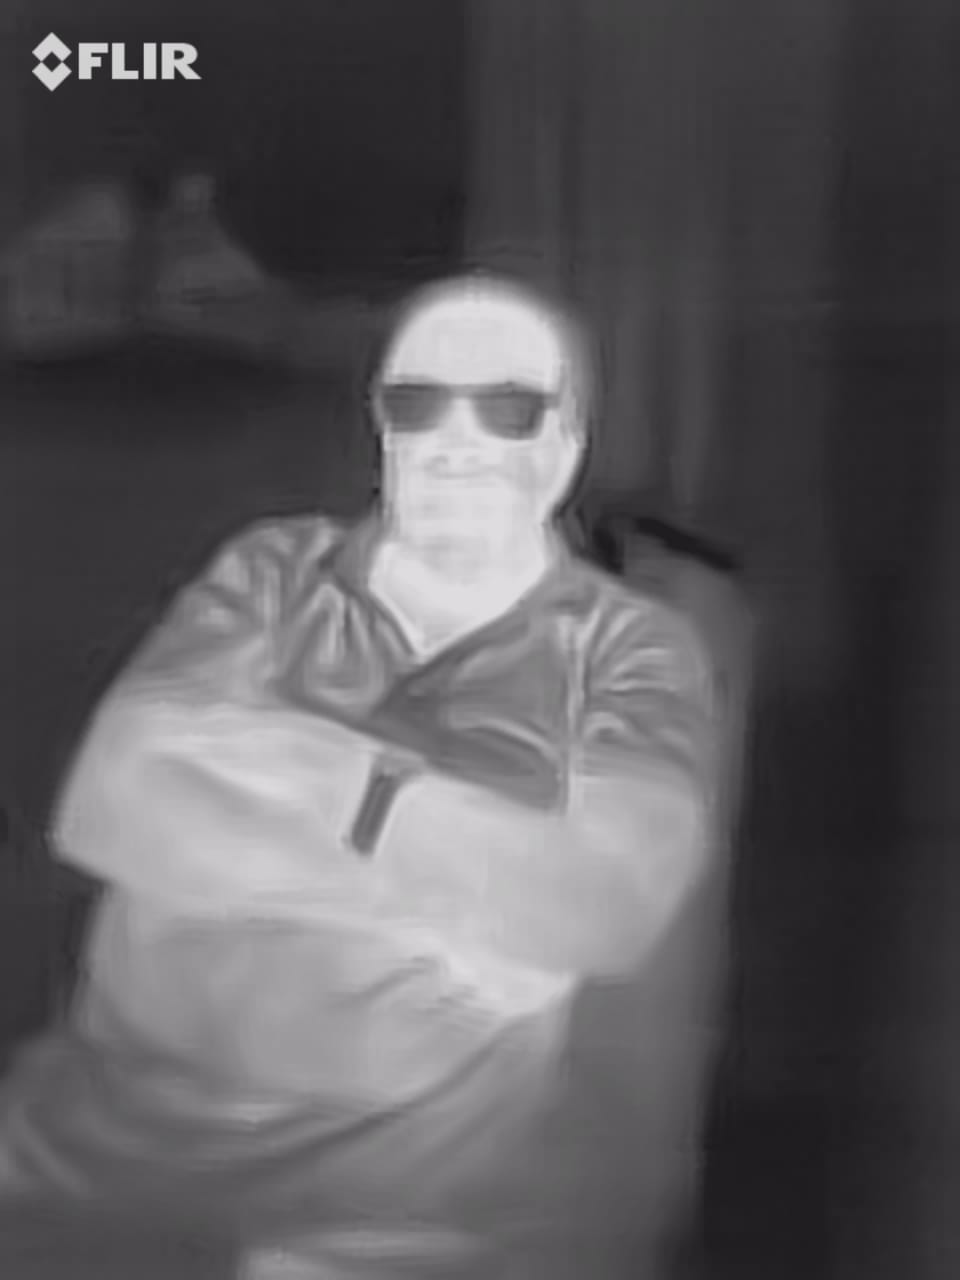head: (357, 277, 598, 567)
